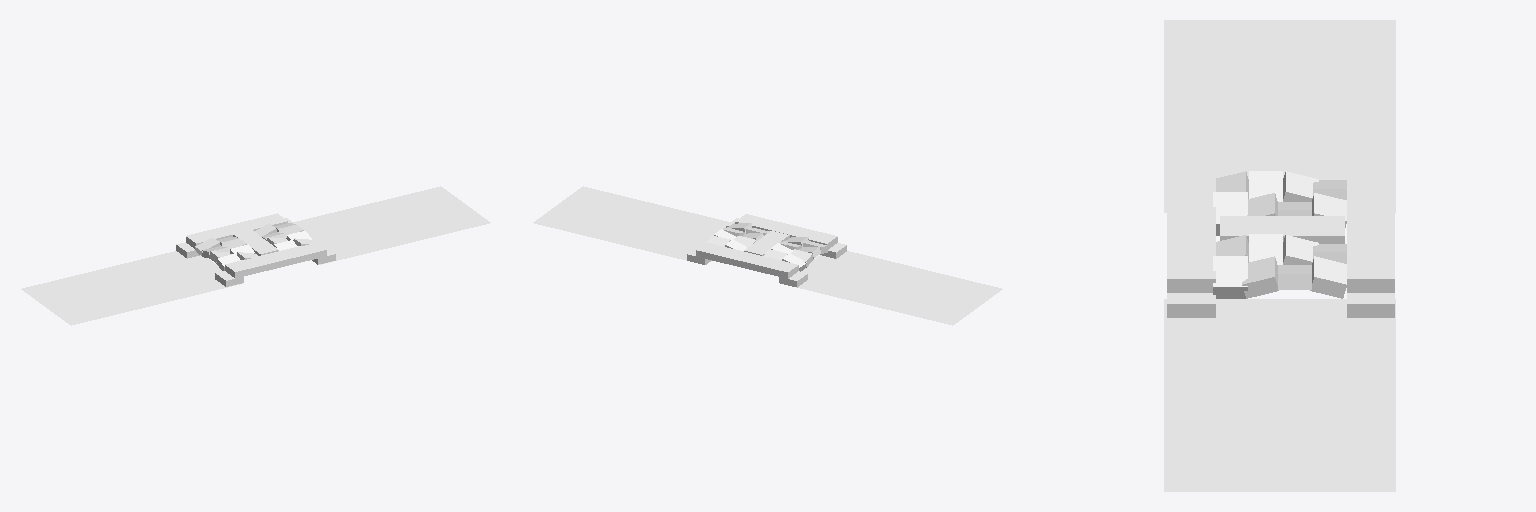
robot.urdf — chair:
<robot name="chair">
  <link name="base_link">
    <visual>
      <origin xyz="0 0 0" rpy="0 0 0" />
      <geometry>
        <mesh filename="package://hpp-rbprm-corba/meshes/darpa_no_mid.stl"/>
      </geometry>
      <material name="white">
        <color rgba="1 1 1 1"/>
      </material>
    </visual>
    <collision>
      <origin xyz="0 0 0" rpy="0 0 0" />
      <geometry>
        <mesh filename="package://hpp-rbprm-corba/meshes/darpa_no_mid.stl"/>
      </geometry>
    </collision>
  </link>
</robot>

--- Render facts (derived) ---
3 views of the same robot in one strip: view 1: azimuth 30°, elevation 25°; view 2: azimuth 150°, elevation 25°; view 3: azimuth 270°, elevation 25° (orthographic).
Robot: chair — 1 links, 0 joints (none); root link base_link; default pose: every joint at zero.
Links seen in each view (by area): view 1: base_link; view 2: base_link; view 3: base_link.
Boxes of the visible links, x1=… form: base_link: x1=21, y1=186, x2=490, y2=325; base_link: x1=533, y1=186, x2=1002, y2=325; base_link: x1=1164, y1=20, x2=1395, y2=491.
Bounding box of the posed robot: 6.87 × 1.42 × 0.2371 m (x, y, z).
Meshes: 1 distinct files referenced, 1 mesh visuals loaded (1 binary STL).